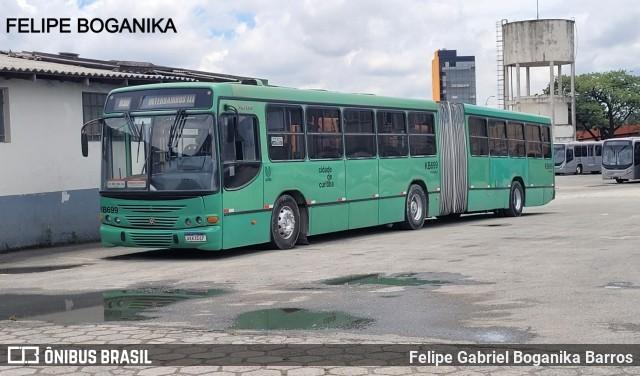INTERBAIRROS III: (146, 93, 198, 108)
